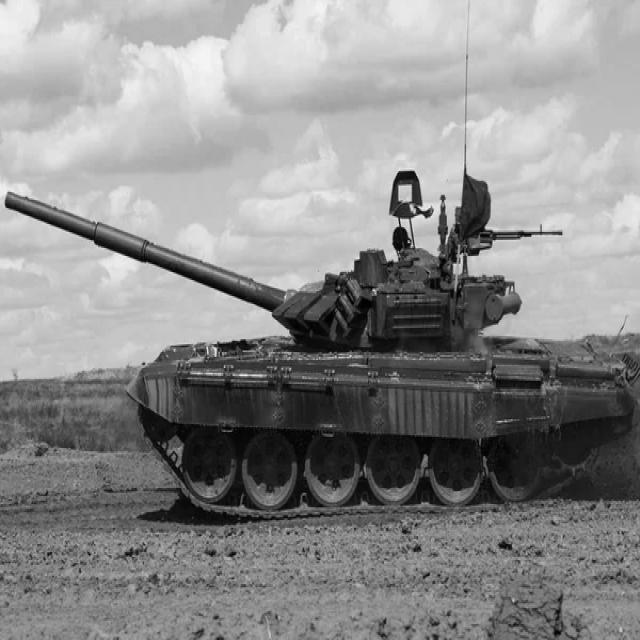Tank: (7, 174, 640, 506)
